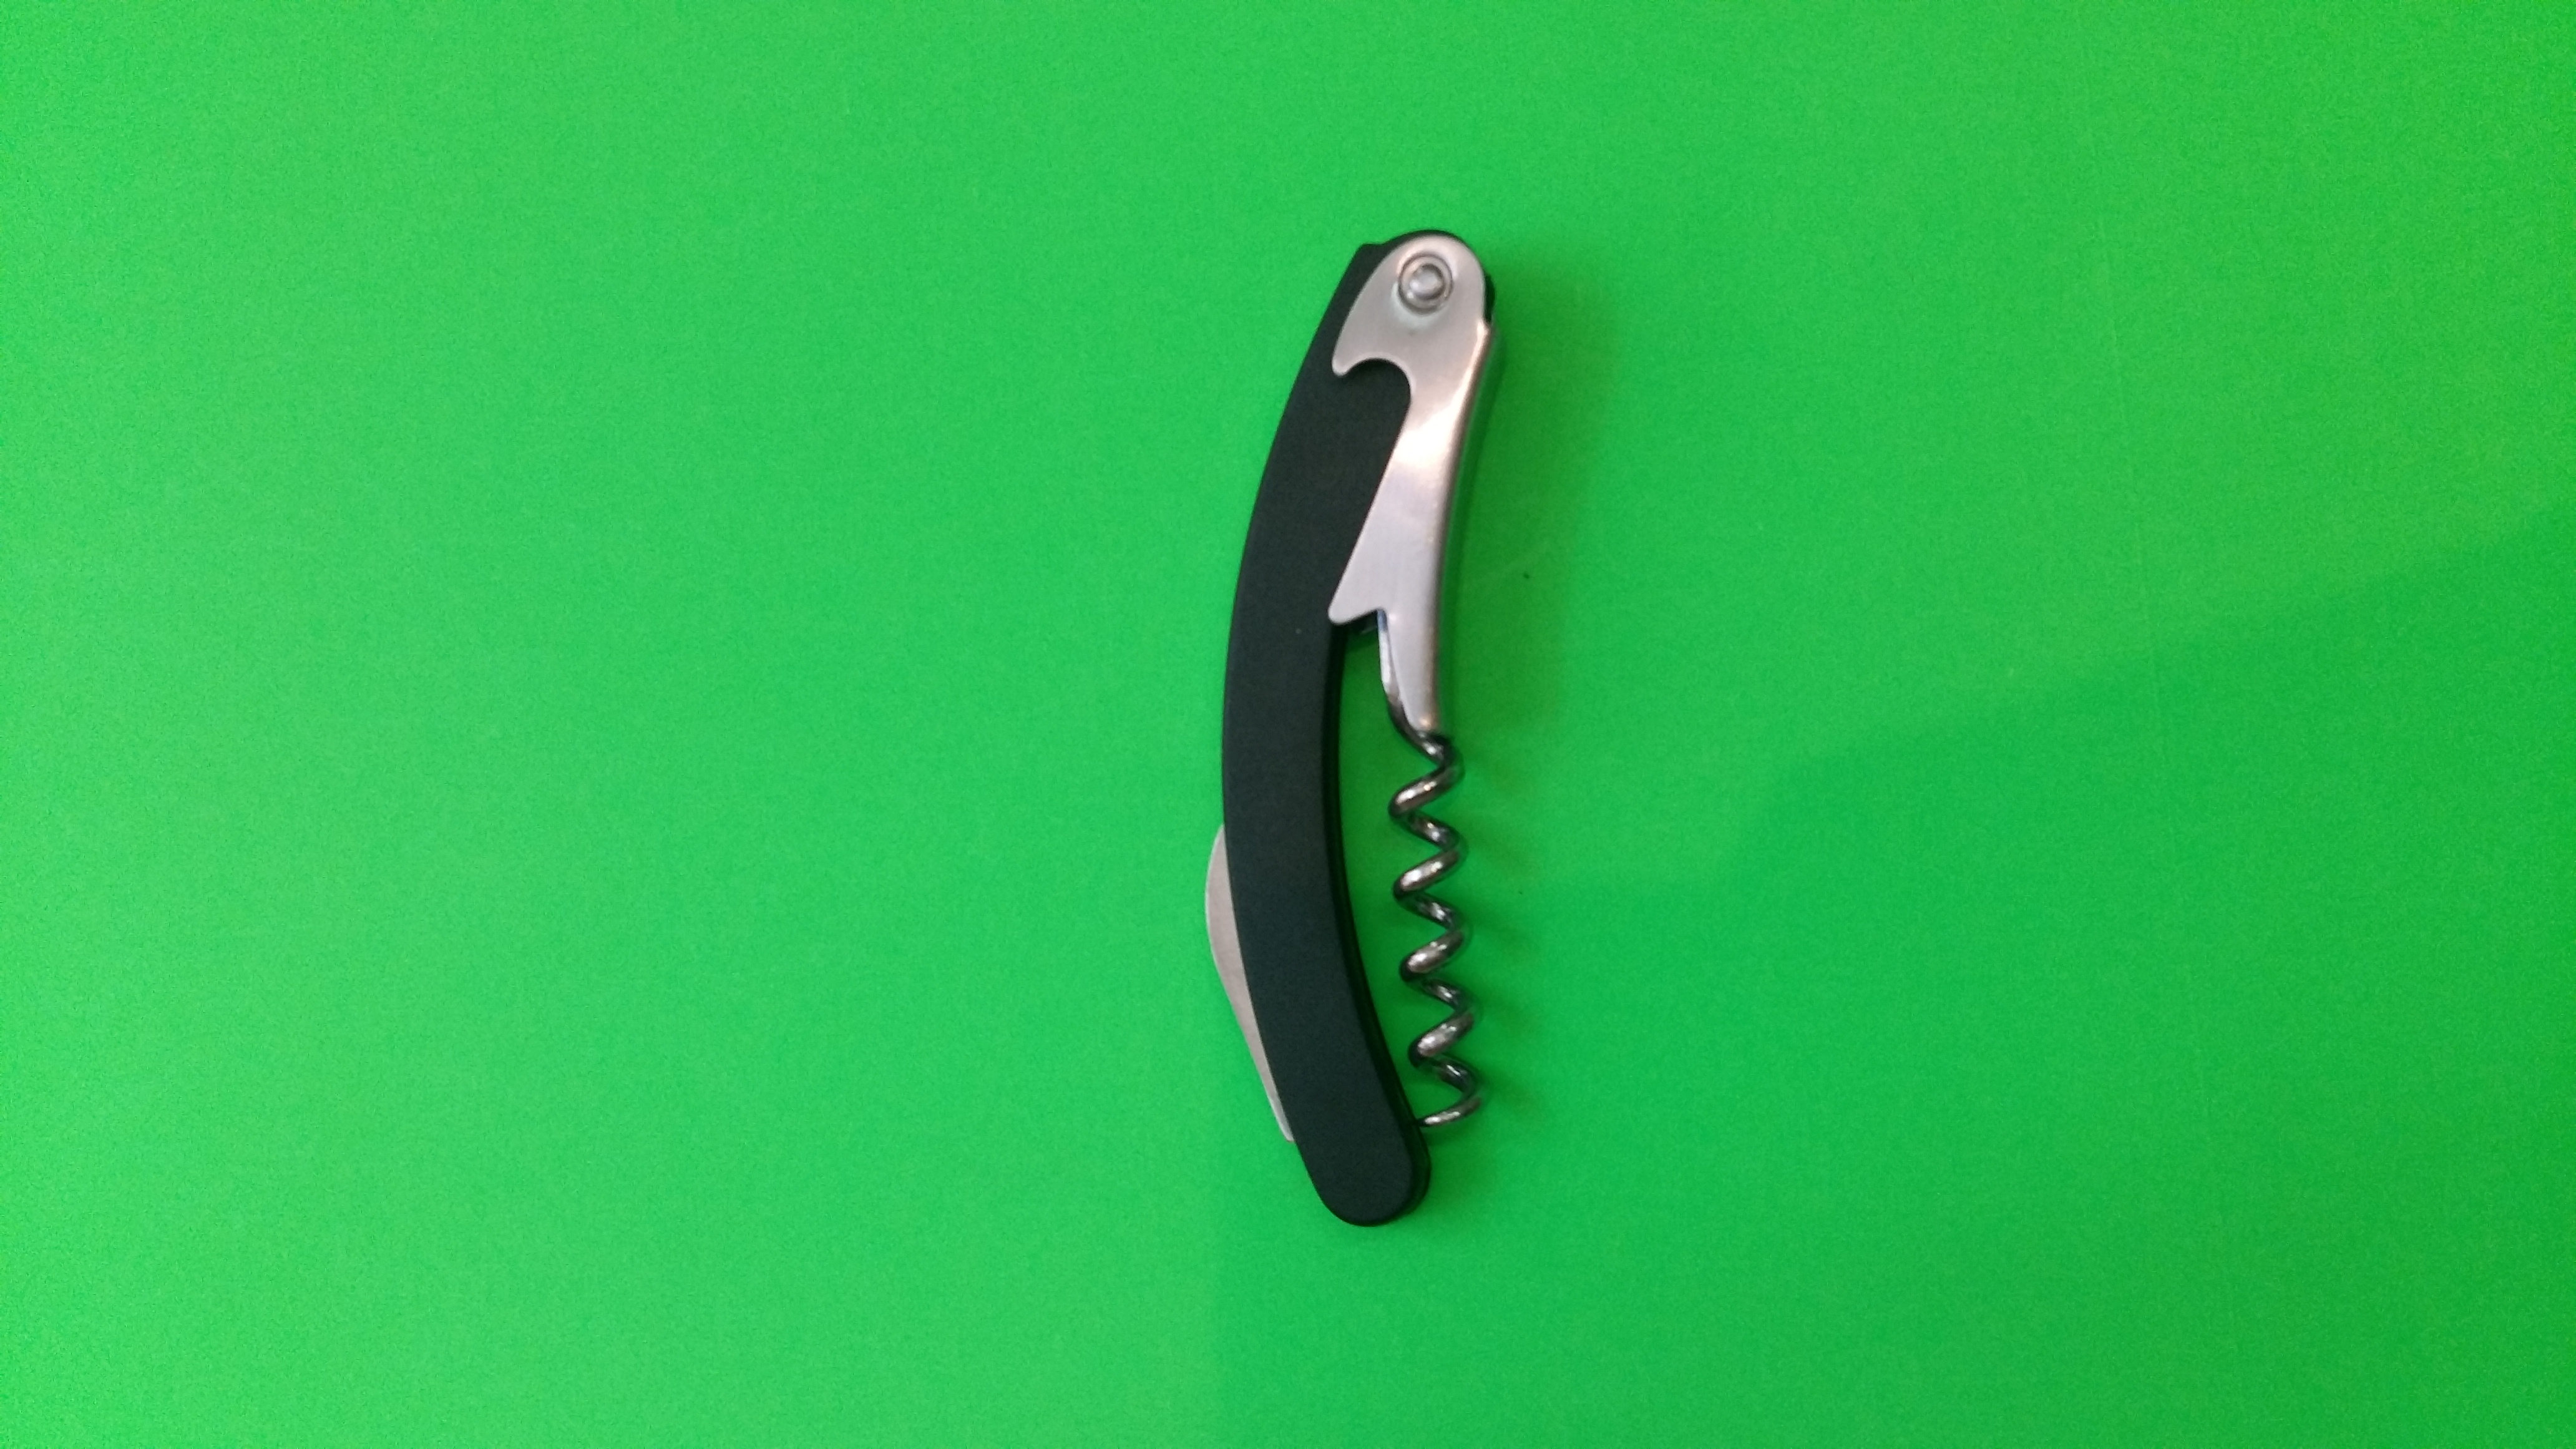bottleopener: (1201, 230, 1500, 1226)
